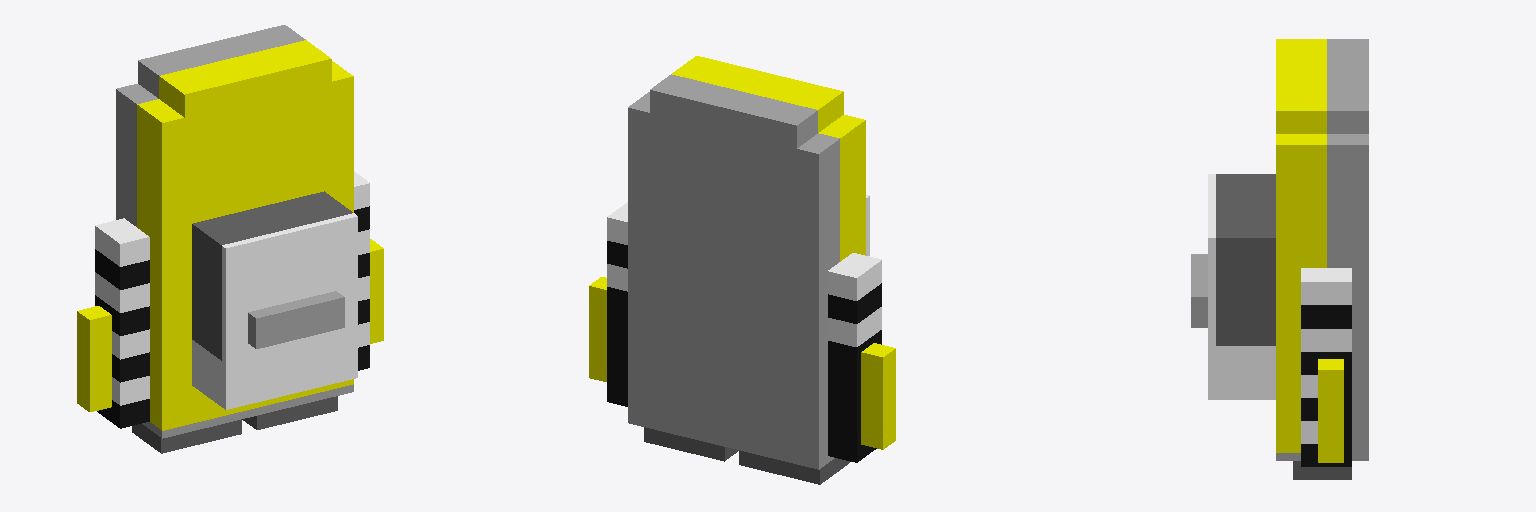
The picture shows the model from 3 angles: view 1: azimuth 30°, elevation 25°; view 2: azimuth 150°, elevation 25°; view 3: azimuth 270°, elevation 25°; orthographic projection.
Bounding box in the file's own units: 40 × 47 × 21.
Materials: 1 (1 with a texture image).